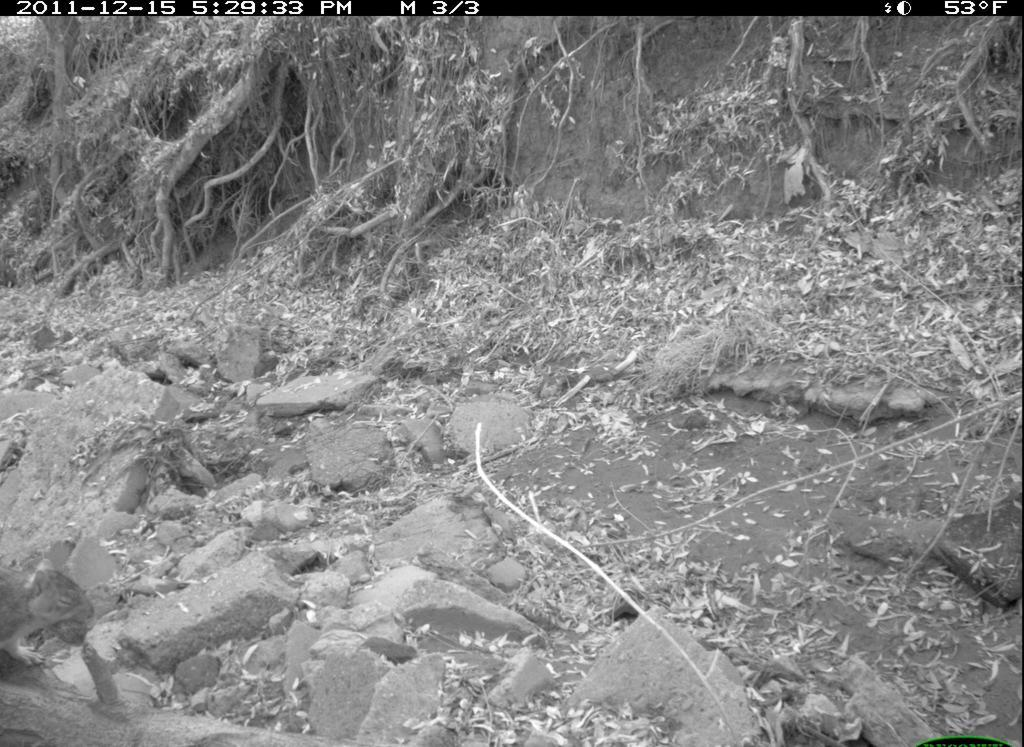squirrel: (1, 552, 104, 681)
